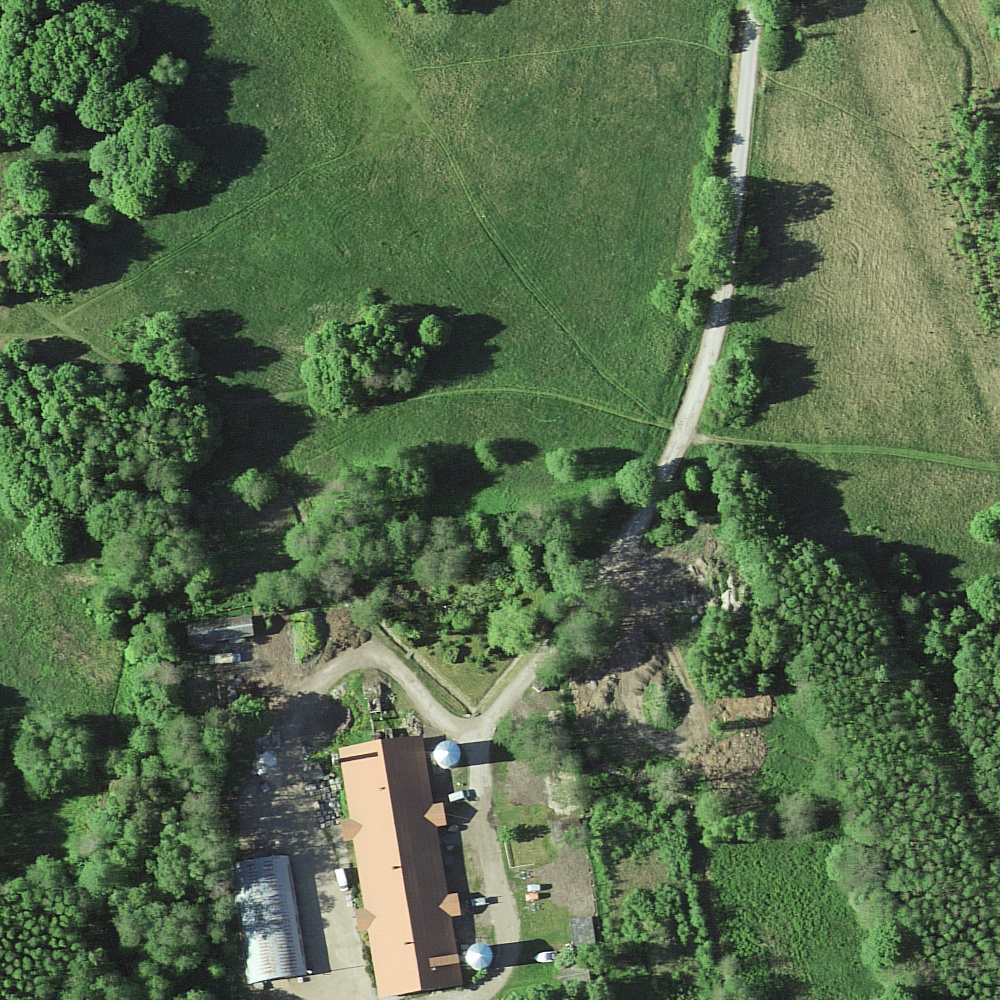building: (339, 738, 464, 998), (232, 857, 308, 983), (189, 616, 254, 645)
